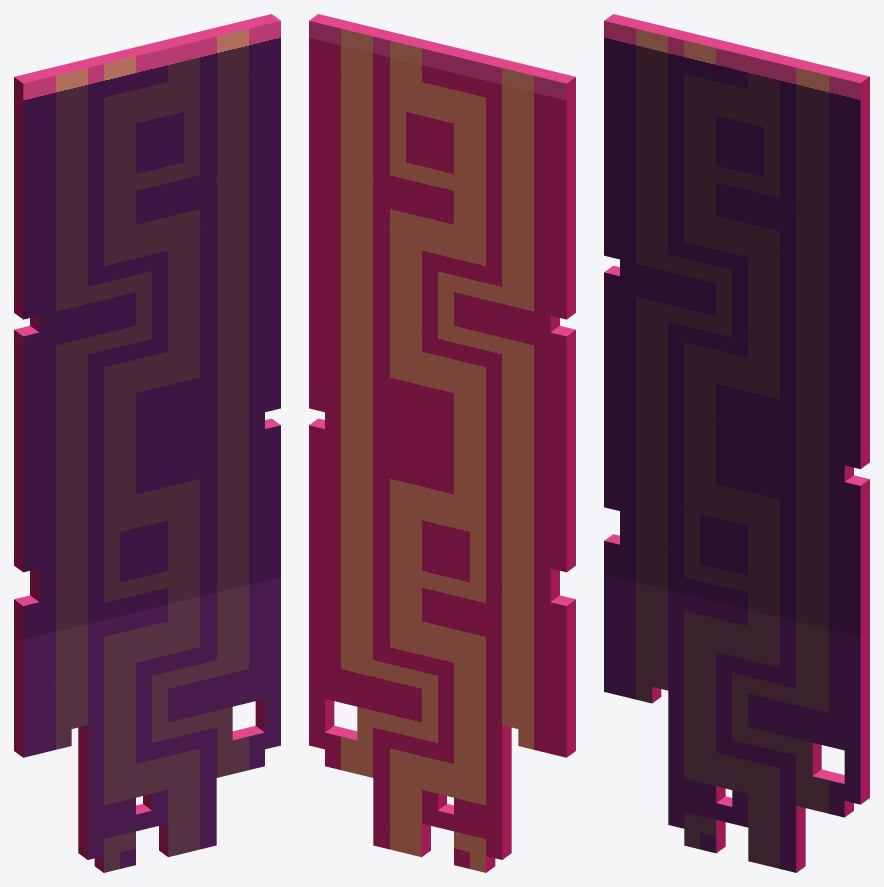
Rendered from pyramid_banner_torn_bao.fezao.glb.
The picture shows the model from 3 angles, left to right: view 1: azimuth 30°, elevation 25°; view 2: azimuth 150°, elevation 25°; view 3: azimuth 330°, elevation 25°; orthographic projection.
Visible parts, largest first — view 1: PYRAMID_BANNER_TORN_BAO; view 2: PYRAMID_BANNER_TORN_BAO; view 3: PYRAMID_BANNER_TORN_BAO.
Boxes of the visible parts, x1=… form: PYRAMID_BANNER_TORN_BAO: x1=14, y1=14, x2=280, y2=872; PYRAMID_BANNER_TORN_BAO: x1=309, y1=14, x2=575, y2=872; PYRAMID_BANNER_TORN_BAO: x1=604, y1=14, x2=869, y2=872.
Size of the model in its own units: 1 by 3 by 0.0625.
Materials: 1 (1 with a texture image).
